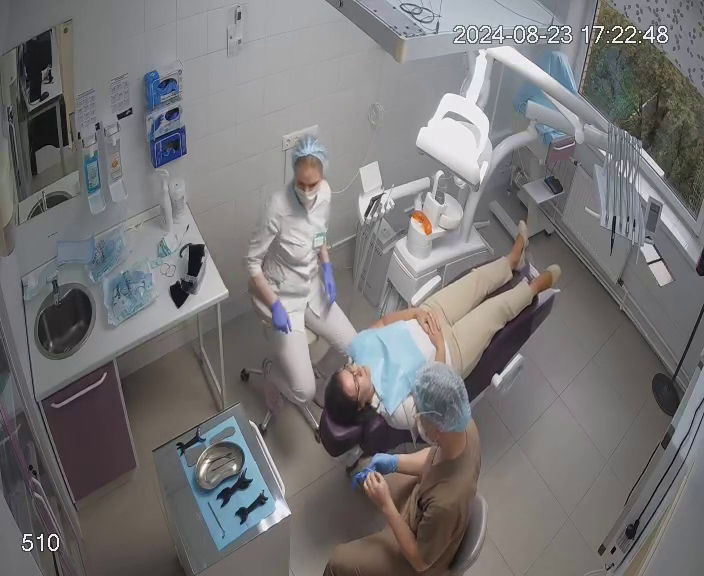Patient: (312, 218, 562, 458)
